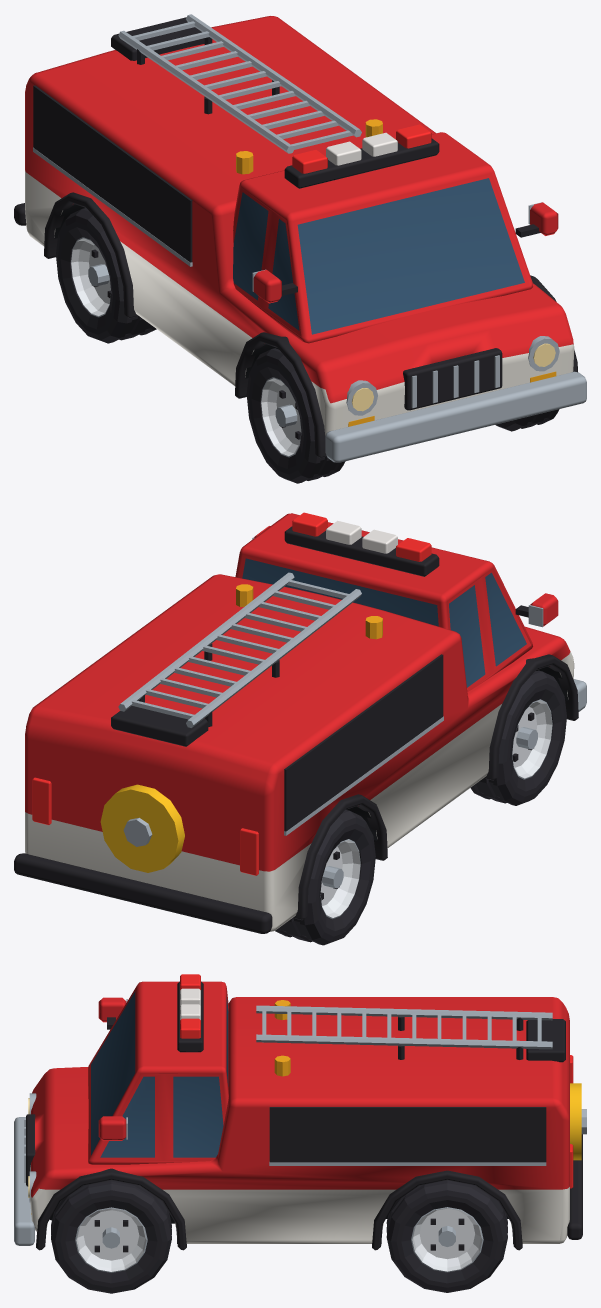
The model's file is vuena-fire-red.glb.
3 views of the same model, one above another, from view 1: azimuth 30°, elevation 25°; view 2: azimuth 150°, elevation 25°; view 3: azimuth 270°, elevation 25° (orthographic). The views are drawn at different scales.
Parts seen in each view (by area): view 1: fire_body, wheel_RR, wheel_FR; view 2: fire_body, wheel_FR, wheel_RR; view 3: fire_body, wheel_FL, wheel_RL.
Part boxes in pixels (x1,y1,x2,y2): fire_body: [14, 14, 586, 462]; wheel_RR: [56, 208, 156, 343]; wheel_FR: [246, 348, 345, 483]; fire_body: [14, 512, 586, 933]; wheel_FR: [470, 670, 566, 805]; wheel_RR: [275, 810, 375, 945]; fire_body: [14, 974, 586, 1250]; wheel_FL: [51, 1180, 171, 1293]; wheel_RL: [386, 1180, 507, 1292].
Size of the model in its own units: 2.27 by 2.01 by 4.35.
1 material, 1 textured.
